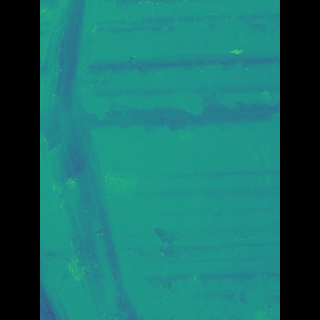Loch: (68, 0, 155, 320)
